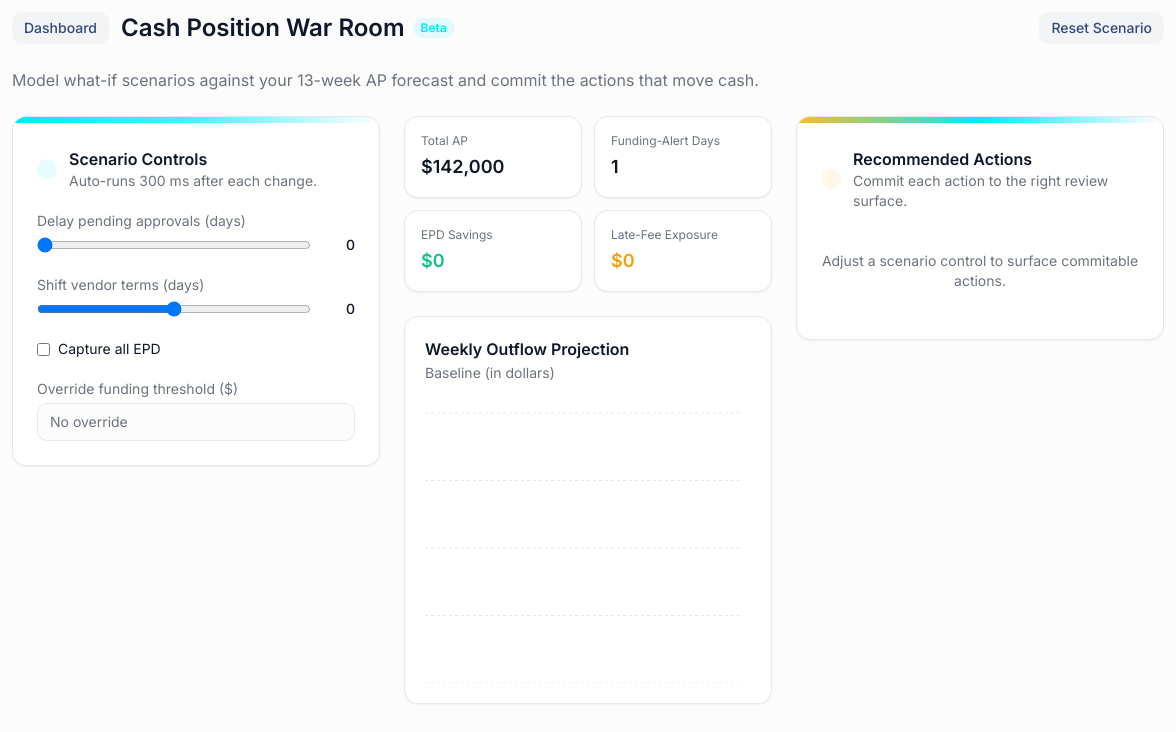
WarRoomPage › toggles Capture all EPD, runs simulation, and surfaces the EPD action with a Review in Discounts commit
Expected: the heading "Cash Position War Room" is shown, [121,12,405,44]
Click the checkbox labelled "Capture all EPD".
click(44, 349)  # box [37,342,50,356]
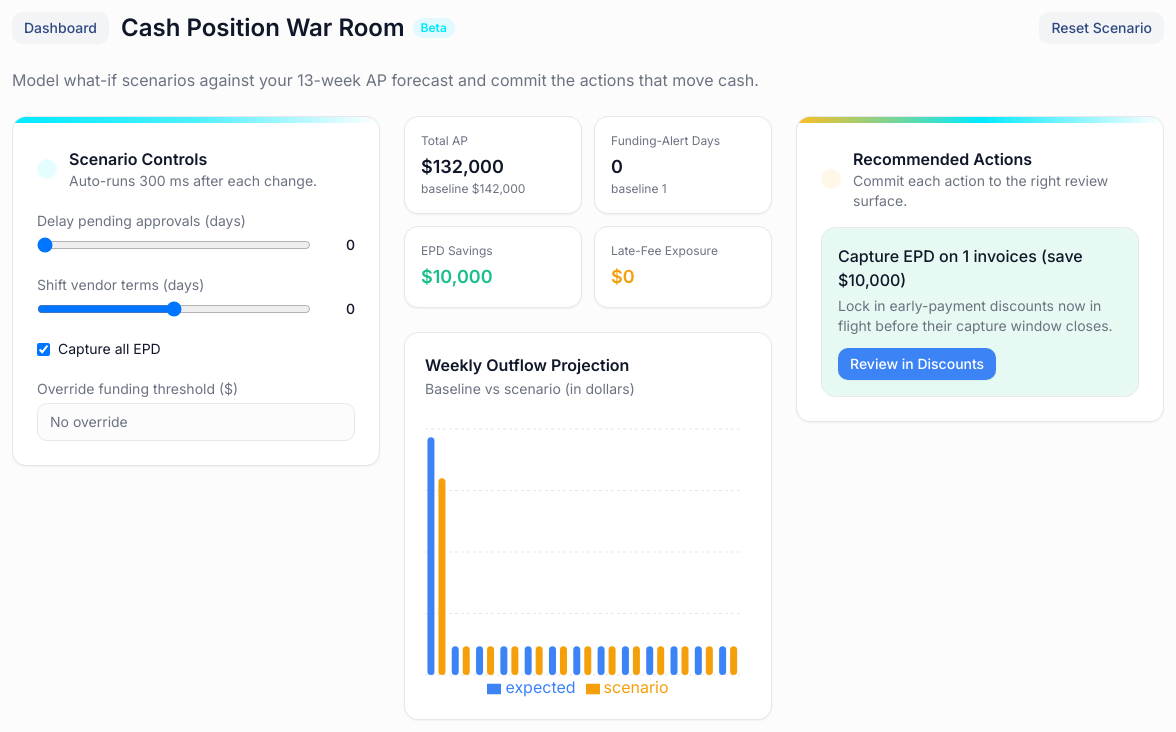
Expected: the text "Capture EPD on 1 invoices (save $10,000)" is shown, [838,244,1122,292]
Expected: the button "Review in Discounts" is shown, [838,348,996,380]
